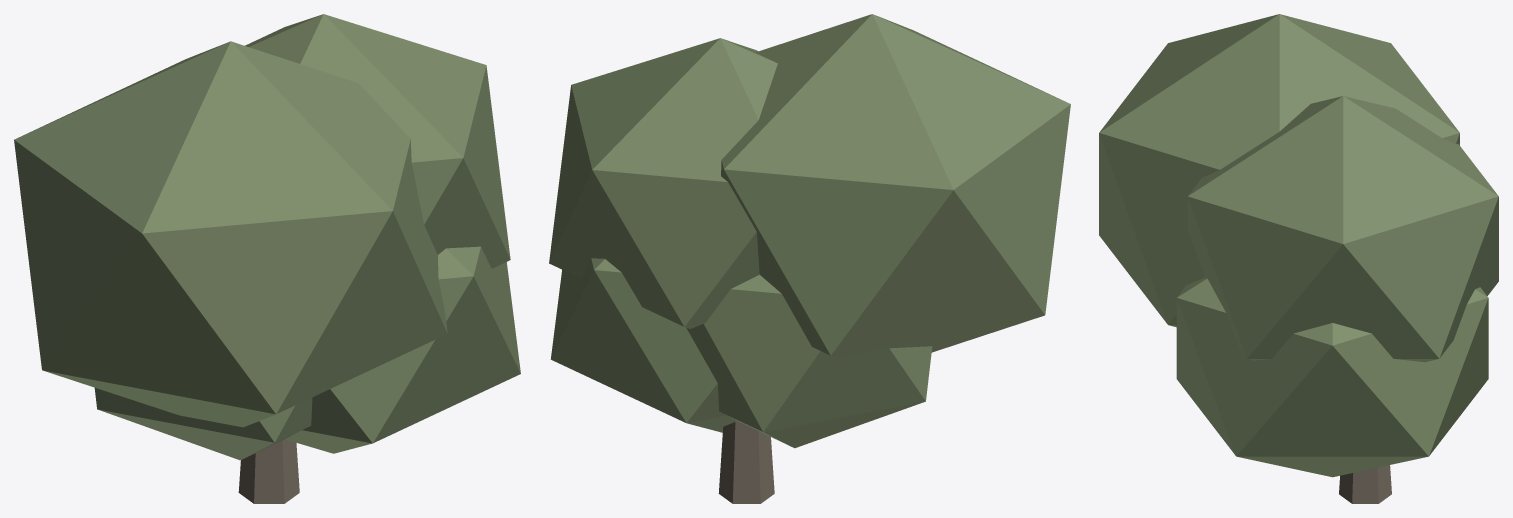
File: bush_b_LOD0.fbx
The picture shows the model from 3 angles, left to right: view 1: azimuth 30°, elevation 25°; view 2: azimuth 150°, elevation 25°; view 3: azimuth 270°, elevation 25°; orthographic projection. The views are drawn at different scales.
Parts seen in each view (by area): view 1: bush_b; view 2: bush_b; view 3: bush_b.
Boxes of the visible parts, <box> form: bush_b: <box>14,14,520,503</box>; bush_b: <box>549,14,1070,503</box>; bush_b: <box>1099,14,1498,503</box>.
Bounding box in the file's own units: 89.78 × 90 × 73.61.
